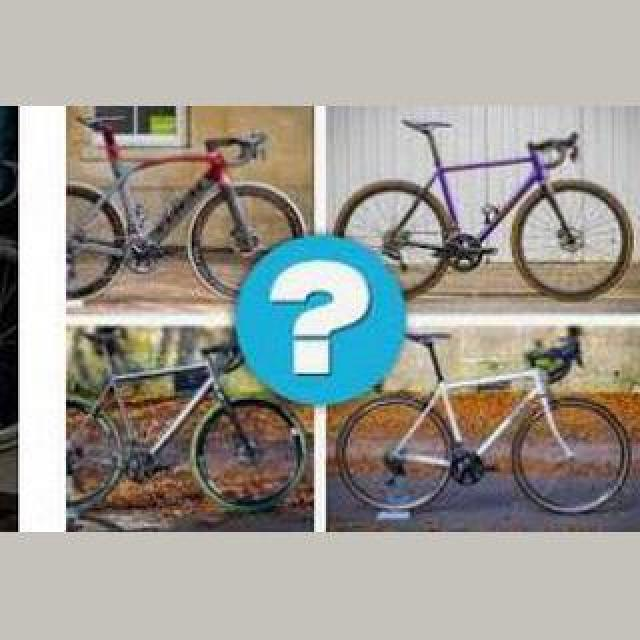Person: (337, 116, 633, 300), (340, 329, 630, 515), (64, 345, 312, 527), (66, 113, 302, 303)
